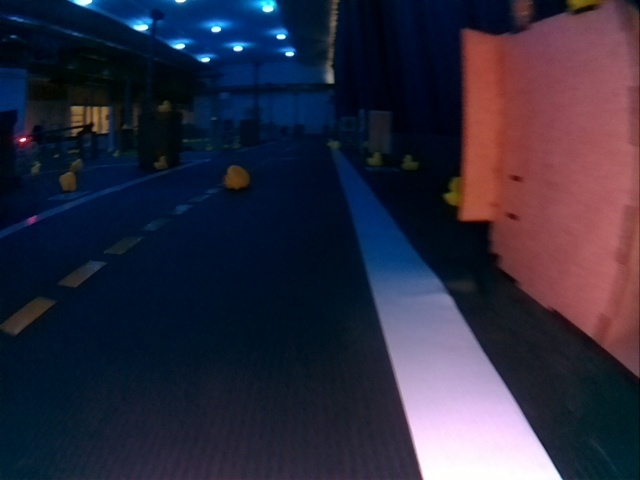Duckie: (224, 165, 250, 190), (59, 173, 76, 189), (153, 156, 168, 170), (405, 156, 418, 170), (367, 153, 379, 166), (158, 100, 172, 110)
